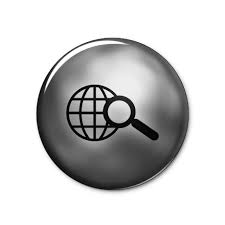searchIcon: (102, 92, 160, 145)
